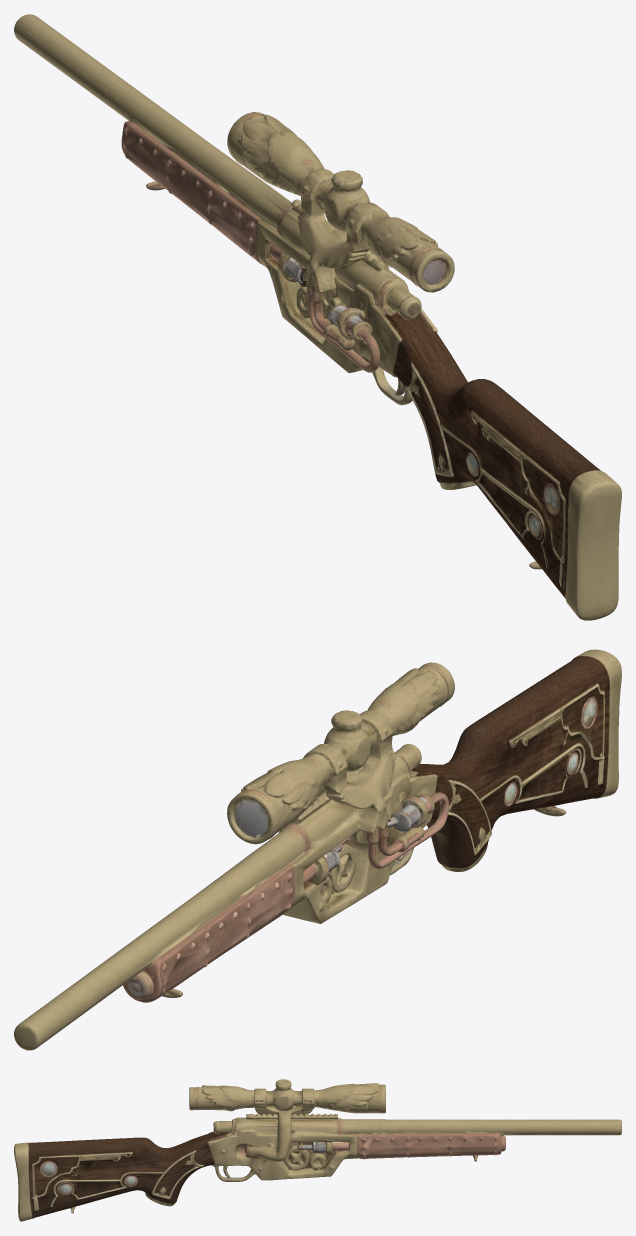
Rendered from k308_pirinc.glb.
3 renders of one model, top to bottom at view 1: azimuth 30°, elevation 25°; view 2: azimuth 150°, elevation 25°; view 3: azimuth 270°, elevation 25°, orthographic. The views are drawn at different scales.
Visible parts, largest first — view 1: govde; view 2: govde; view 3: govde.
Part boxes in pixels (x1,y1,x2,y2): govde: (14,14,621,620); govde: (14,649,621,1050); govde: (14,1079,621,1221).
Size of the model in its own units: 0.101 by 0.2866 by 1.14.
1 material, 1 textured.
